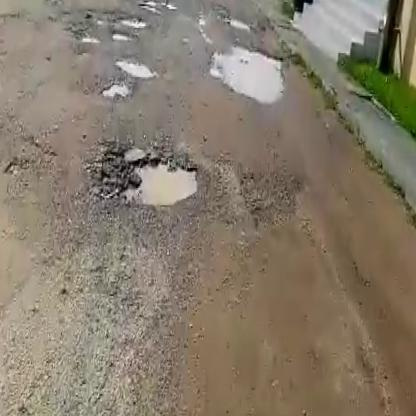pothole: (89, 142, 202, 213), (205, 47, 285, 99), (115, 57, 162, 81), (91, 77, 133, 103), (135, 0, 174, 12), (228, 20, 249, 30)
